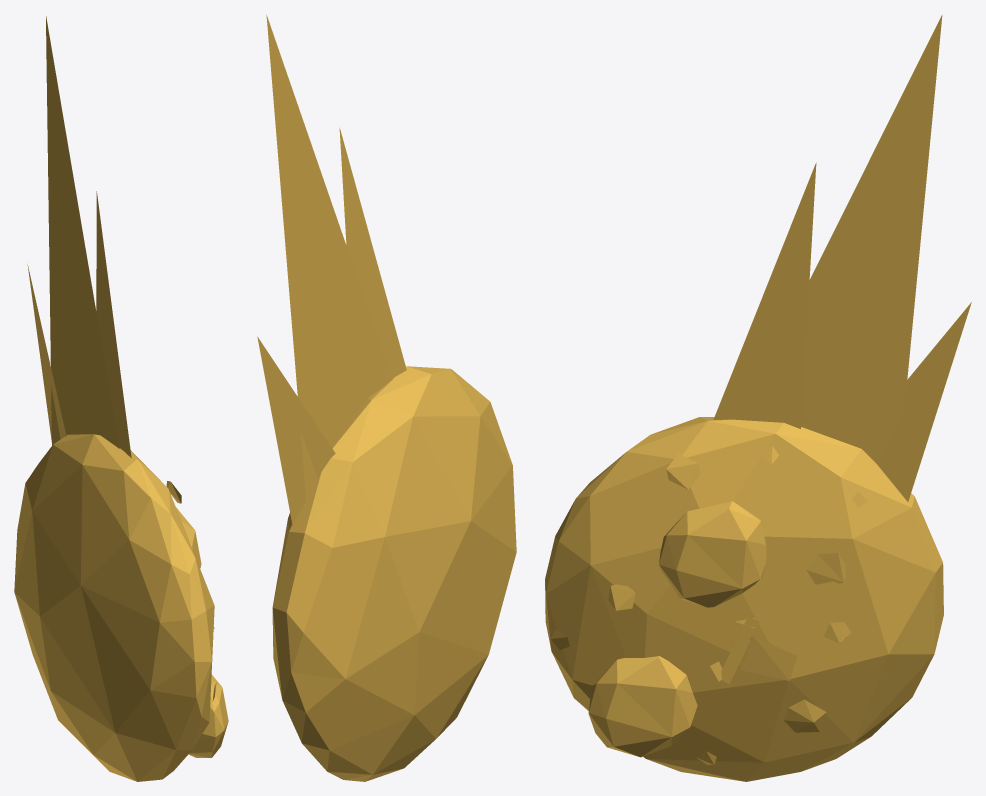
The model's file is CookieImpactor.fbx.
3 renders of one model, left to right at view 1: azimuth 30°, elevation 25°; view 2: azimuth 150°, elevation 25°; view 3: azimuth 270°, elevation 25°, orthographic. The views are drawn at different scales.
Parts seen in each view (by area): view 1: Cube.002; view 2: Cube.002; view 3: Cube.002.
Boxes of the visible parts, x1,y1,x2,y2 form: Cube.002: (14, 16, 228, 781); Cube.002: (257, 14, 516, 781); Cube.002: (545, 15, 971, 781).
Bounding box in the file's own units: 149 × 924 × 460.
